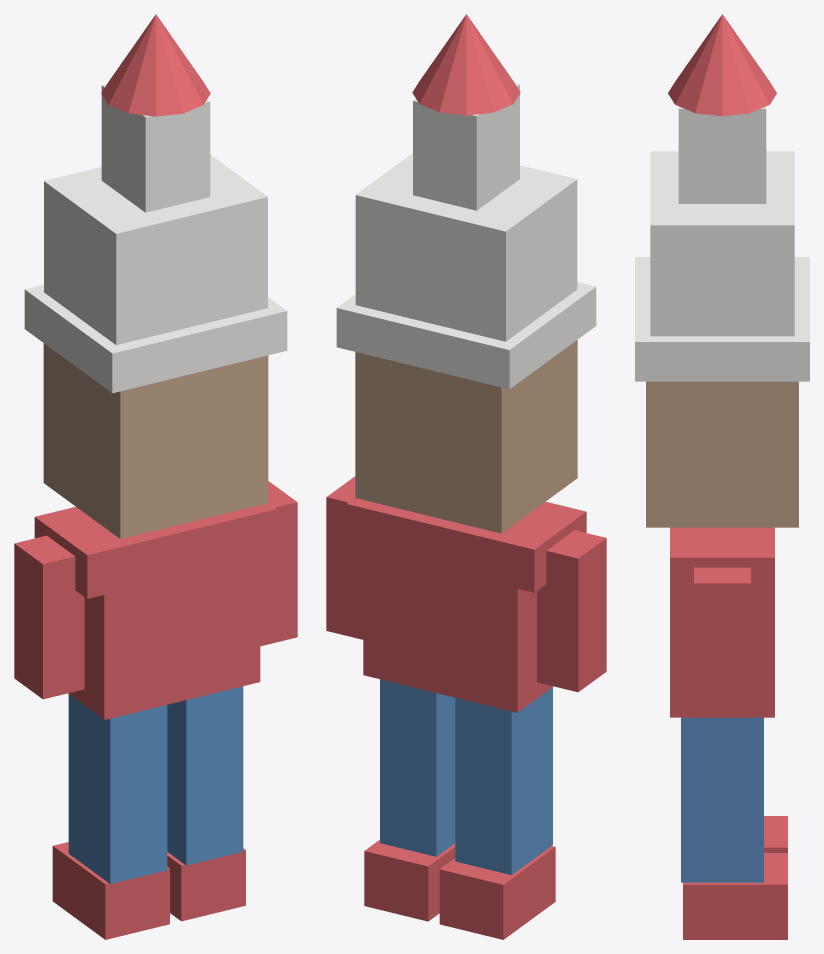
Rendered from guerreiro_blockout.glb.
The picture shows the model from 3 angles, left to right: view 1: azimuth 30°, elevation 25°; view 2: azimuth 150°, elevation 25°; view 3: azimuth 270°, elevation 25°; orthographic projection.
Parts seen in each view (by area): view 1: Guerreiro, perna_dir, perna_esq; view 2: Guerreiro, perna_dir, perna_esq; view 3: Guerreiro, perna_esq, perna_dir.
Boxes of the visible parts, x1,y1,x2,y2 form: Guerreiro: [14, 14, 297, 719]; perna_dir: [52, 694, 169, 939]; perna_esq: [167, 686, 245, 921]; Guerreiro: [326, 14, 606, 712]; perna_dir: [439, 687, 555, 939]; perna_esq: [364, 679, 455, 921]; Guerreiro: [635, 14, 809, 717]; perna_esq: [681, 717, 787, 939]; perna_dir: [764, 816, 787, 852].
Size of the model in its own units: 0.5226 by 1.76 by 0.312.
